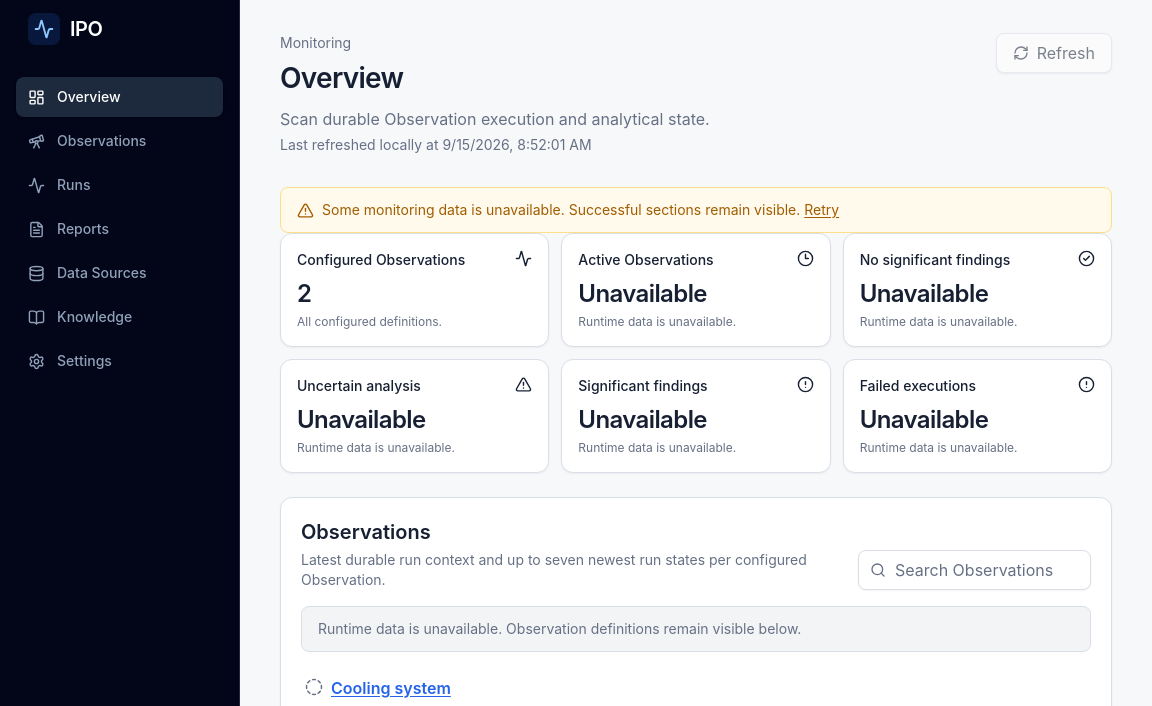
Test: Overview application integration › keeps successful definitions searchable when initial runtime history is unavailable
The image size is (1152, 706).
Expected: the message shows "Some monitoring data is unavailable. Successful sections remain visible.", [322,201,804,218]
Type " cooling " into the field labelled "Search Observations" at point(974, 570), box [858,550,1091,590]
(page scrolled)
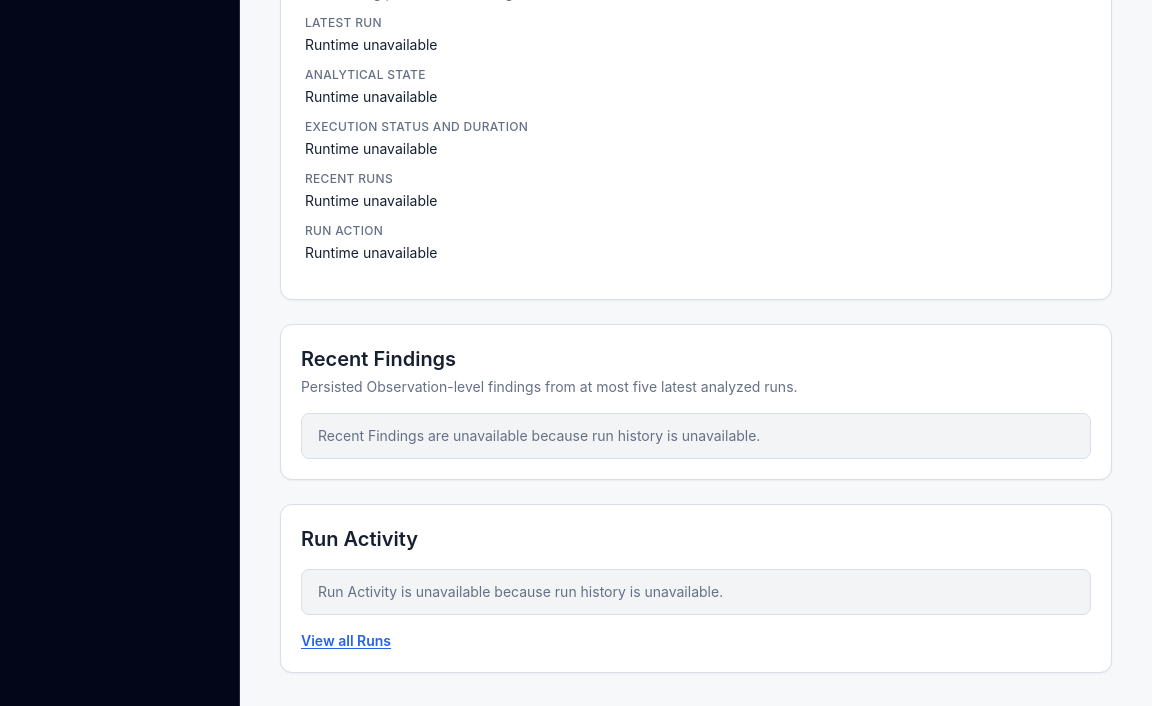
Expected: the text "Runtime unavailable" is shown 5 times, [305,36,438,53]; [305,88,438,105]; [305,140,438,157]; [305,192,438,209]; [305,244,438,261]
